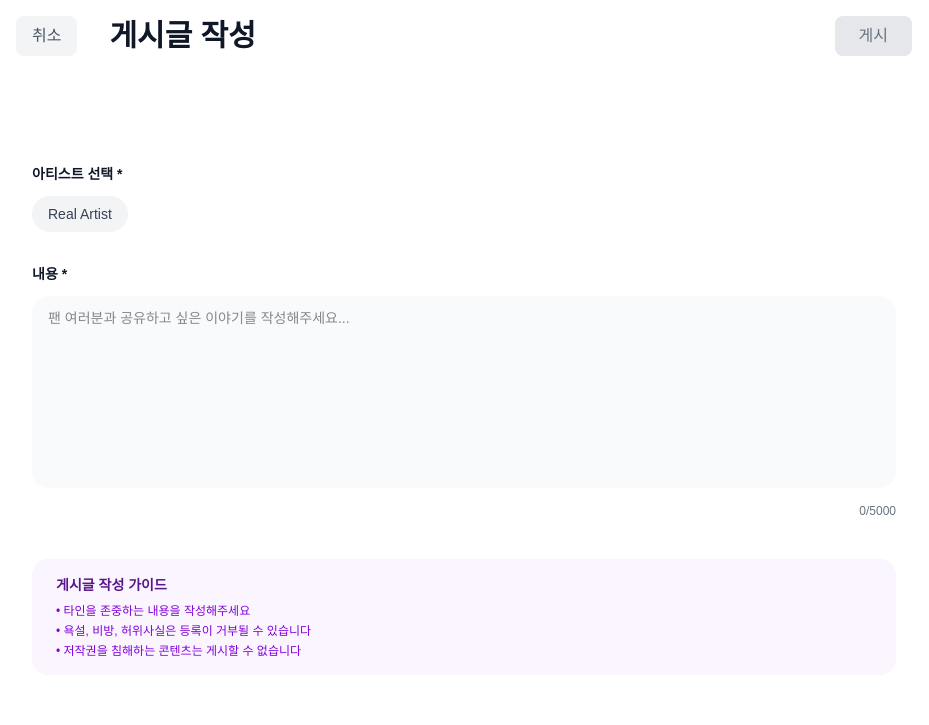
Test case: PostCreatePage › keeps the form and shows the API error when creation fails
This screenshot has width=929, height=725.
Click the button "Real Artist" at (80, 214), box x1=32 y1=196 x2=128 y2=232
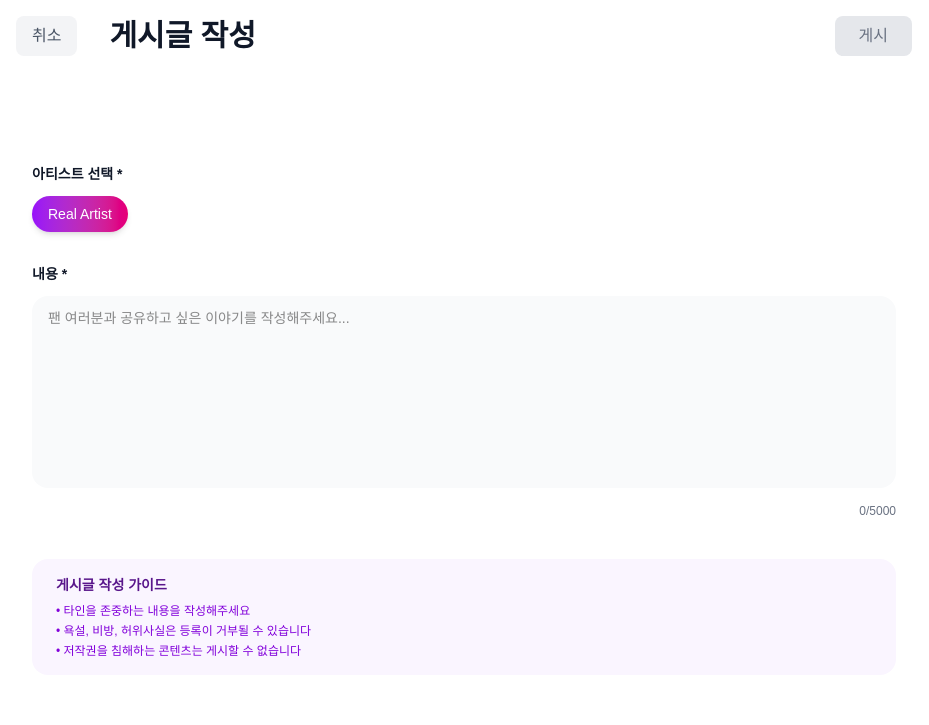
Type "차단될 내용" into the text box labelled "내용 *" at (464, 392), box x1=32 y1=296 x2=896 y2=488
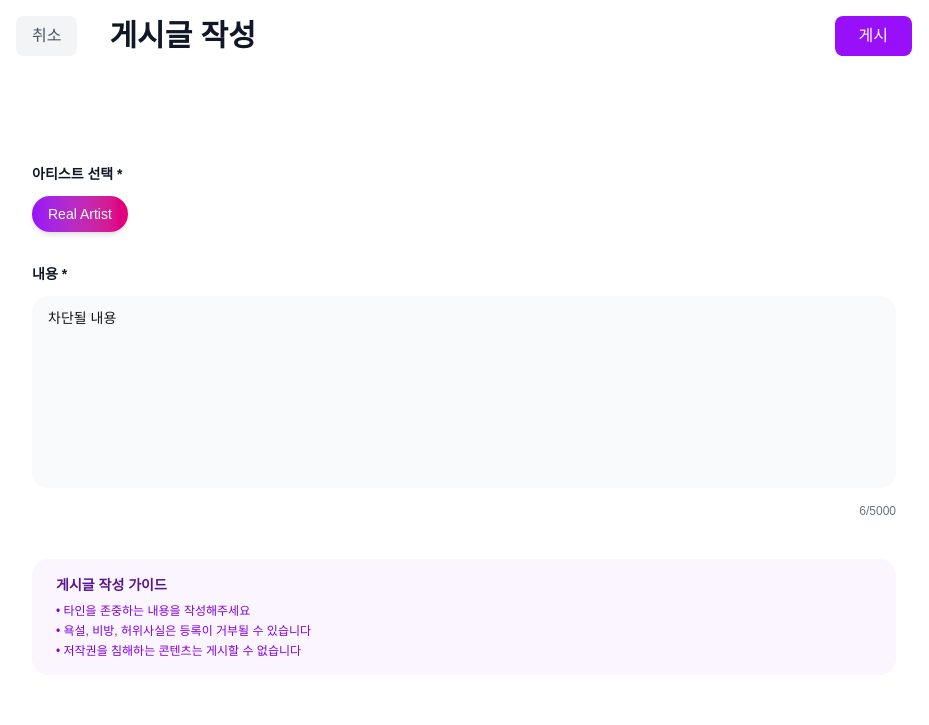
Click the button "게시" at (873, 36), box x1=834 y1=16 x2=912 y2=56
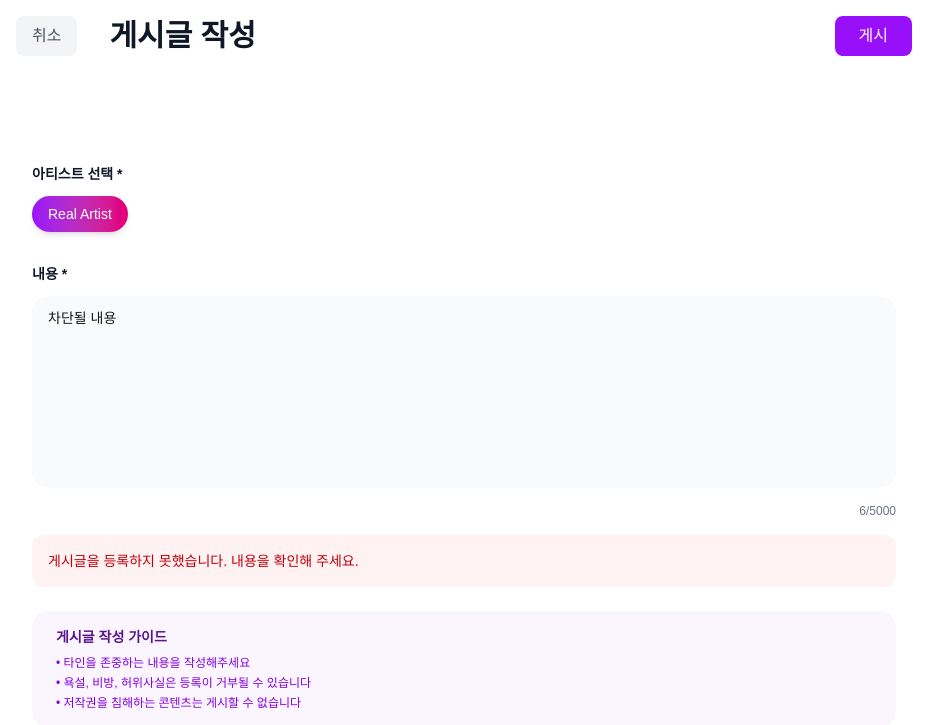
Expected: the text "게시글을 등록하지 못했습니다. 내용을 확인해 주세요." is shown, x1=32 y1=535 x2=896 y2=587
